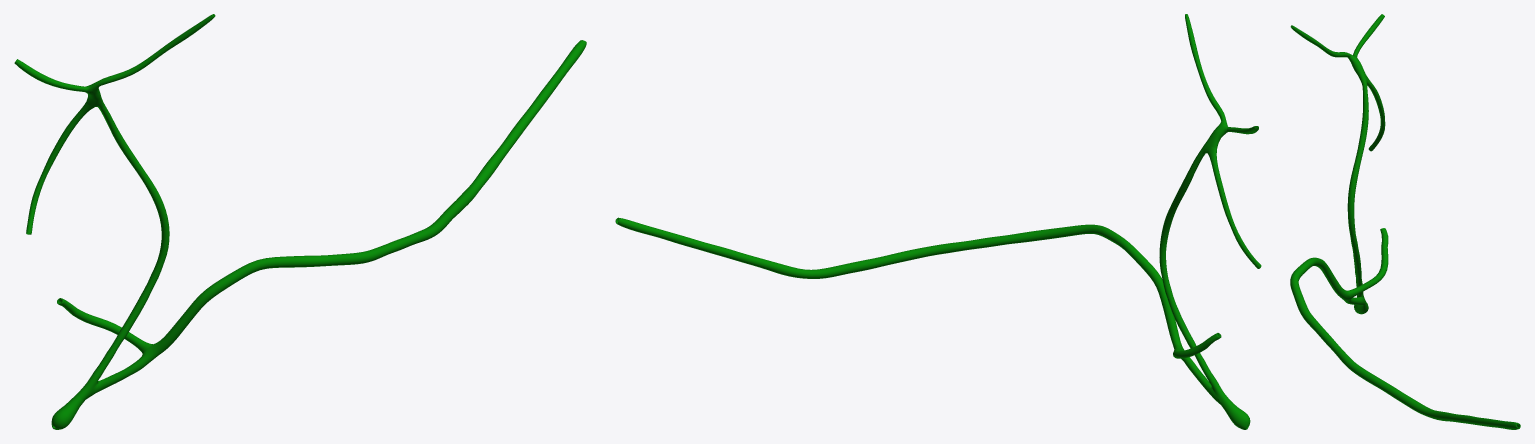
The model's file is VH_F_Biliary_Tree.glb.
3 renders of one model, left to right at view 1: azimuth 30°, elevation 25°; view 2: azimuth 150°, elevation 25°; view 3: azimuth 270°, elevation 25°, orthographic. The views are drawn at different scales.
Parts seen in each view (by area): view 1: VH_F_ventral_pancreatic_duct, VH_F_common_bile_duct, VH_F_cystic_duct, VH_F_left_hepatic_duct, VH_F_dorsal_pancreatic_duct, VH_F_hepatopancreatic_ampulla, VH_F_right_hepatic_duct; view 2: VH_F_ventral_pancreatic_duct, VH_F_common_bile_duct, VH_F_cystic_duct, VH_F_left_hepatic_duct; view 3: VH_F_ventral_pancreatic_duct, VH_F_common_bile_duct, VH_F_dorsal_pancreatic_duct, VH_F_cystic_duct, VH_F_left_hepatic_duct, VH_F_common_hepatic_duct, VH_F_right_hepatic_duct.
Boxes of the visible parts, x1,y1,x2,y2 form: VH_F_ventral_pancreatic_duct: [86, 40, 586, 399]; VH_F_common_bile_duct: [76, 105, 169, 400]; VH_F_cystic_duct: [26, 102, 94, 234]; VH_F_left_hepatic_duct: [94, 14, 215, 86]; VH_F_dorsal_pancreatic_duct: [57, 298, 152, 353]; VH_F_hepatopancreatic_ampulla: [51, 394, 84, 429]; VH_F_right_hepatic_duct: [14, 59, 85, 91]; VH_F_ventral_pancreatic_duct: [615, 217, 1221, 404]; VH_F_common_bile_duct: [1159, 150, 1228, 402]; VH_F_cystic_duct: [1207, 146, 1261, 268]; VH_F_left_hepatic_duct: [1185, 14, 1226, 120]; VH_F_ventral_pancreatic_duct: [1290, 257, 1520, 429]; VH_F_common_bile_duct: [1347, 86, 1368, 300]; VH_F_dorsal_pancreatic_duct: [1347, 228, 1388, 298]; VH_F_cystic_duct: [1366, 75, 1385, 151]; VH_F_left_hepatic_duct: [1290, 25, 1351, 57]; VH_F_common_hepatic_duct: [1348, 54, 1367, 86]; VH_F_right_hepatic_duct: [1353, 14, 1384, 56].
Bounding box in the file's own units: 0.1644 × 0.1005 × 0.0635.
